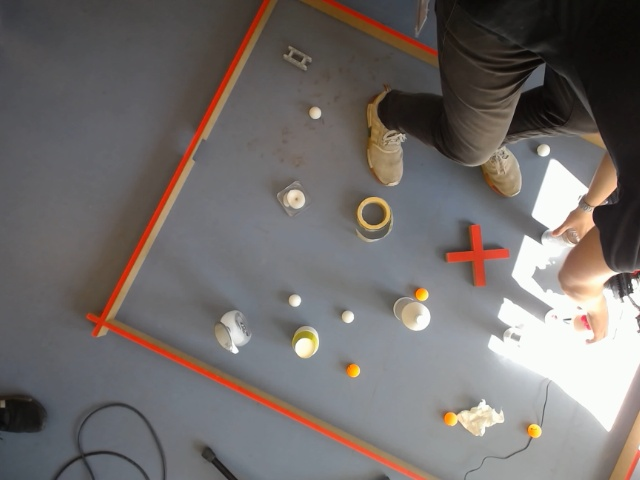orange: (215, 321, 229, 348), (527, 423, 542, 439), (414, 287, 430, 302), (346, 363, 361, 378), (443, 411, 457, 427)
white: (401, 301, 432, 333), (293, 326, 319, 359), (284, 184, 307, 214), (215, 318, 230, 349), (220, 329, 234, 353), (307, 105, 323, 122), (340, 309, 356, 325), (287, 293, 303, 309), (536, 143, 550, 157)
